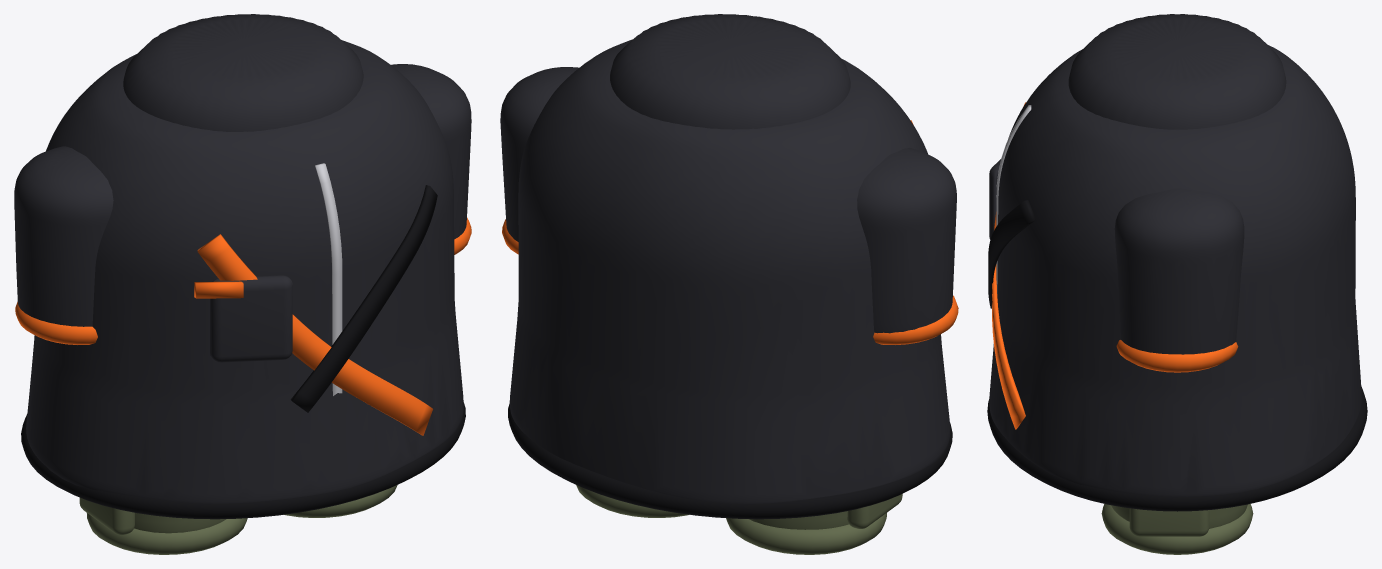
The model's file is mon.glb.
3 views of the same model, side by side, from view 1: azimuth 30°, elevation 25°; view 2: azimuth 150°, elevation 25°; view 3: azimuth 270°, elevation 25° (orthographic). The views are drawn at different scales.
Visible parts, largest first — view 1: mon_Torso_00_shell, mon_Torso_01_collar, mon_ArmL_00_sleeve, mon_Torso_05_hem, mon_Torso_06_pocket, mon_Torso_03_strap_a, mon_Torso_04_strap_b, mon_ArmR_00_sleeve.001, mon_Legs_01_cargo_cuff-1, mon_Torso_02_zip, mon_ArmL_01_sleeve_cuff, mon_Legs_00_cargo-1 (+3 smaller); view 2: mon_Torso_00_shell, mon_Torso_01_collar, mon_ArmL_00_sleeve, mon_Torso_05_hem, mon_ArmR_00_sleeve.001, mon_Legs_01_cargo_cuff-1, mon_ArmL_01_sleeve_cuff, mon_Legs_03_cargo_cuff1, mon_Legs_00_cargo-1, mon_Legs_05_cargo_pocket-1; view 3: mon_Torso_00_shell, mon_Torso_01_collar, mon_ArmR_00_sleeve.001, mon_Torso_05_hem, mon_Legs_03_cargo_cuff1, mon_Legs_06_cargo_pocket1, mon_ArmR_01_sleeve_cuff.001, mon_Torso_03_strap_a, mon_Torso_04_strap_b, mon_Legs_02_cargo1, mon_Torso_06_pocket, mon_Torso_02_zip.
Part boxes in pixels (x1,y1,x2,y2): mon_Torso_00_shell: [26, 40, 463, 503]; mon_Torso_01_collar: [123, 14, 363, 131]; mon_ArmL_00_sleeve: [14, 146, 113, 326]; mon_Torso_05_hem: [21, 402, 465, 519]; mon_Torso_06_pocket: [210, 275, 292, 362]; mon_Torso_03_strap_a: [197, 234, 432, 435]; mon_Torso_04_strap_b: [290, 185, 437, 412]; mon_ArmR_00_sleeve.001: [391, 64, 471, 239]; mon_Legs_01_cargo_cuff-1: [87, 513, 247, 554]; mon_Torso_02_zip: [315, 163, 342, 395]; mon_ArmL_01_sleeve_cuff: [15, 302, 97, 344]; mon_Legs_00_cargo-1: [134, 513, 226, 533]; mon_Torso_00_shell: [509, 39, 950, 503]; mon_Torso_01_collar: [610, 14, 850, 129]; mon_ArmL_00_sleeve: [857, 148, 956, 333]; mon_Torso_05_hem: [508, 404, 952, 519]; mon_ArmR_00_sleeve.001: [500, 67, 578, 241]; mon_Legs_01_cargo_cuff-1: [726, 513, 886, 554]; mon_ArmL_01_sleeve_cuff: [873, 295, 958, 344]; mon_Legs_03_cargo_cuff1: [576, 485, 689, 517]; mon_Legs_00_cargo-1: [749, 511, 848, 529]; mon_Legs_05_cargo_pocket-1: [847, 494, 902, 528]; mon_Torso_00_shell: [989, 45, 1361, 496]; mon_Torso_01_collar: [1068, 14, 1286, 129]; mon_ArmR_00_sleeve.001: [1114, 188, 1244, 354]; mon_Torso_05_hem: [987, 386, 1367, 511]; mon_Legs_03_cargo_cuff1: [1101, 504, 1253, 554]; mon_Legs_06_cargo_pocket1: [1129, 508, 1209, 536]; mon_ArmR_01_sleeve_cuff.001: [1116, 340, 1238, 372]; mon_Torso_03_strap_a: [992, 102, 1025, 429]; mon_Torso_04_strap_b: [988, 200, 1035, 308]; mon_Legs_02_cargo1: [1111, 504, 1247, 528]; mon_Torso_06_pocket: [989, 159, 1000, 239]; mon_Torso_02_zip: [996, 105, 1031, 293].
Bounding box in the file's own units: 1.22 × 1.23 × 0.9524.
